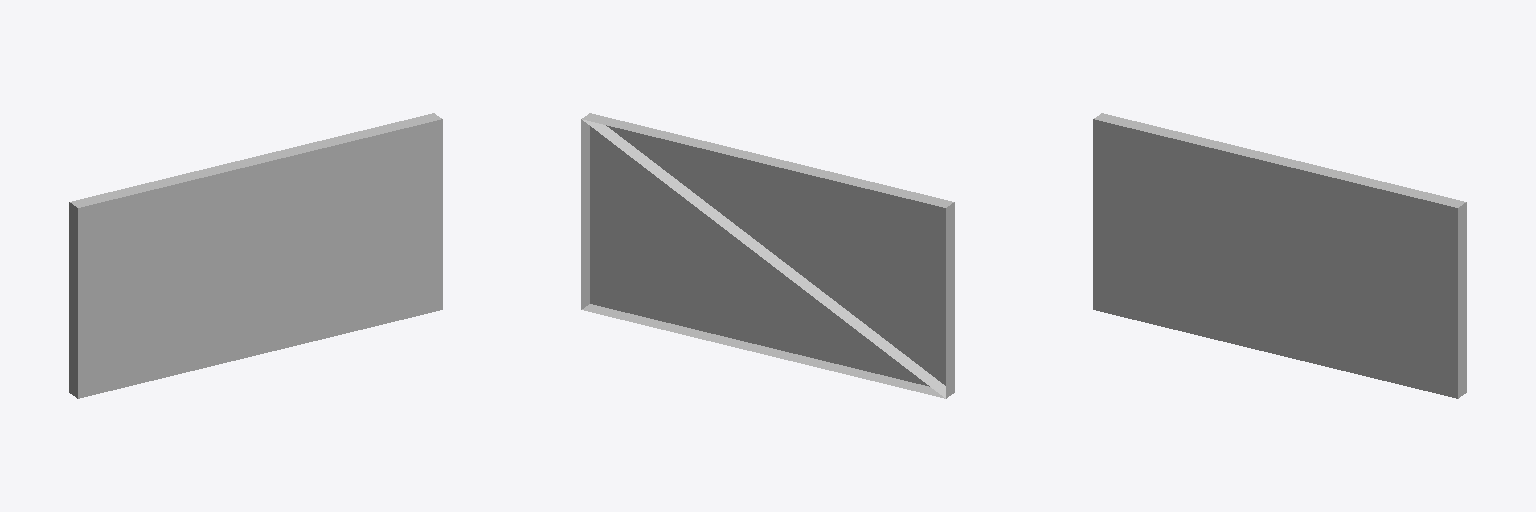
Rendered from room_wall_unbroken.obj.
3 views of the same model, side by side, from view 1: azimuth 30°, elevation 25°; view 2: azimuth 150°, elevation 25°; view 3: azimuth 330°, elevation 25° (orthographic).
Parts seen in each view (by area): view 1: room_wall_unbroken.obj; view 2: room_wall_unbroken.obj; view 3: room_wall_unbroken.obj.
Part boxes in pixels (bbox=[...]): room_wall_unbroken.obj: bbox=[69, 113, 442, 398]; room_wall_unbroken.obj: bbox=[581, 113, 954, 398]; room_wall_unbroken.obj: bbox=[1093, 113, 1466, 398].
Size of the model in its own units: 1 by 0.5 by 0.04.